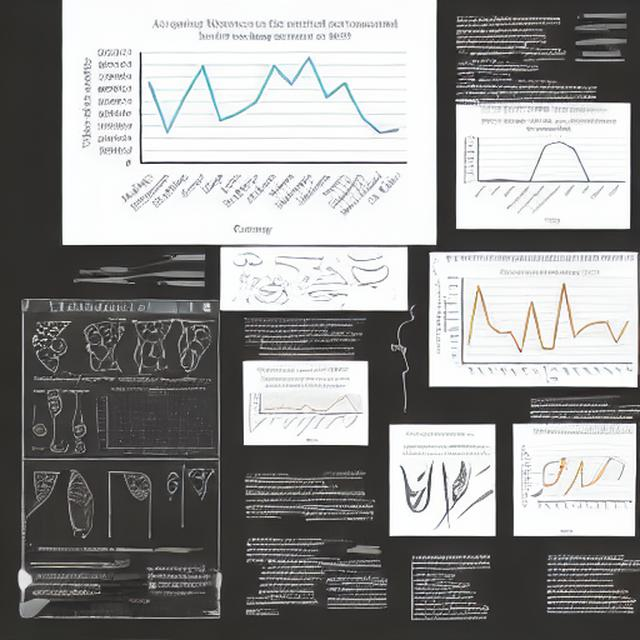Graph: (76, 10, 414, 242), (434, 267, 636, 384), (458, 114, 629, 223), (94, 385, 218, 458), (245, 375, 365, 443)
